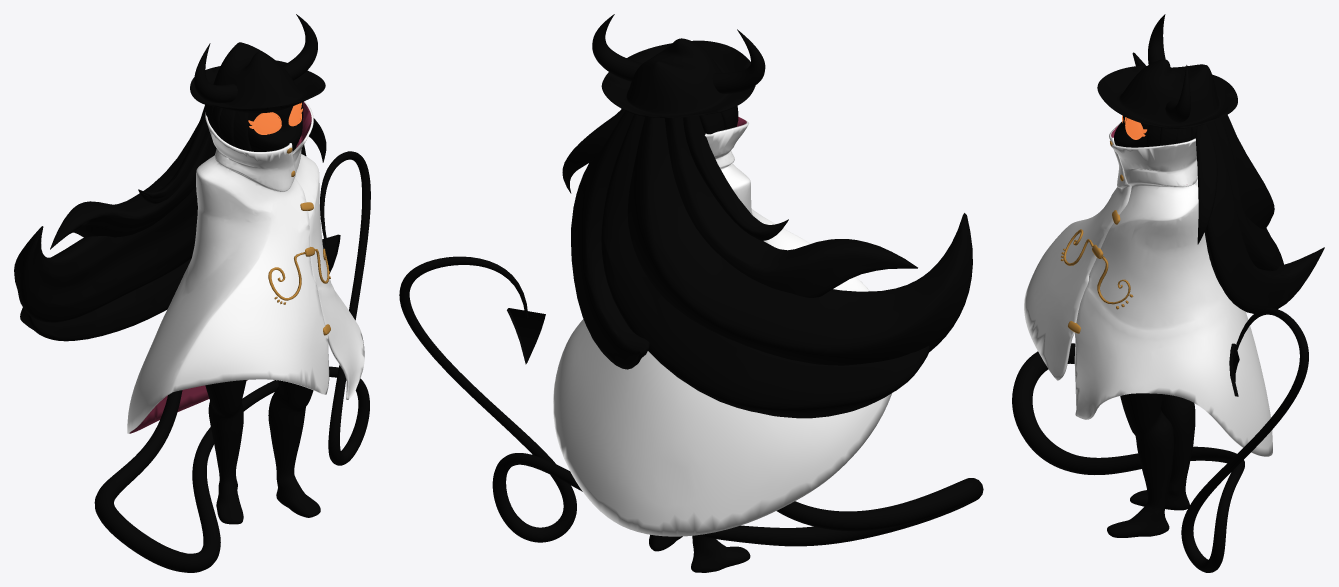
The model's file is demongirl-mixamo.fbx.
The picture shows the model from 3 angles, left to right: view 1: azimuth 30°, elevation 25°; view 2: azimuth 150°, elevation 25°; view 3: azimuth 270°, elevation 25°; orthographic projection. The views are drawn at different scales.
Visible parts, largest first — view 1: Demongirl; view 2: Demongirl; view 3: Demongirl.
Part boxes in pixels (<box>): Demongirl: <box>14,14,370,572</box>; Demongirl: <box>399,14,983,572</box>; Demongirl: <box>1012,14,1324,572</box>.
Size of the model in its own units: 2.15 by 2.3 by 1.35.
